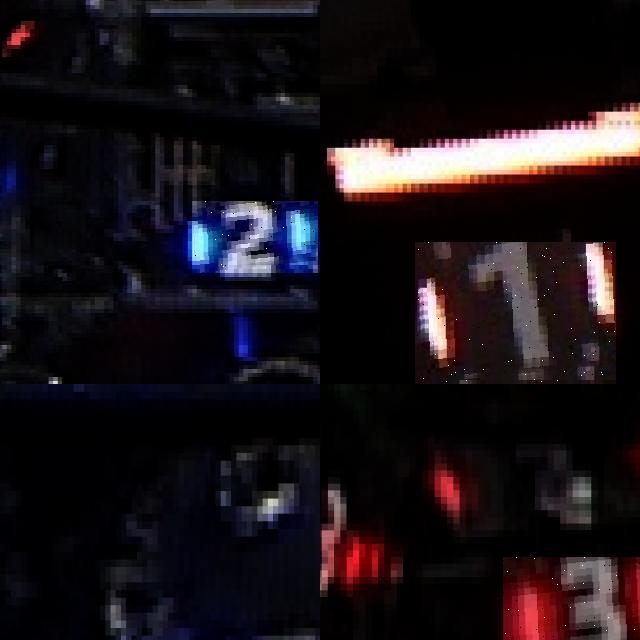B2: (192, 201, 318, 273)
R1: (415, 242, 617, 384)
R3: (503, 556, 640, 640), (320, 470, 371, 603)
